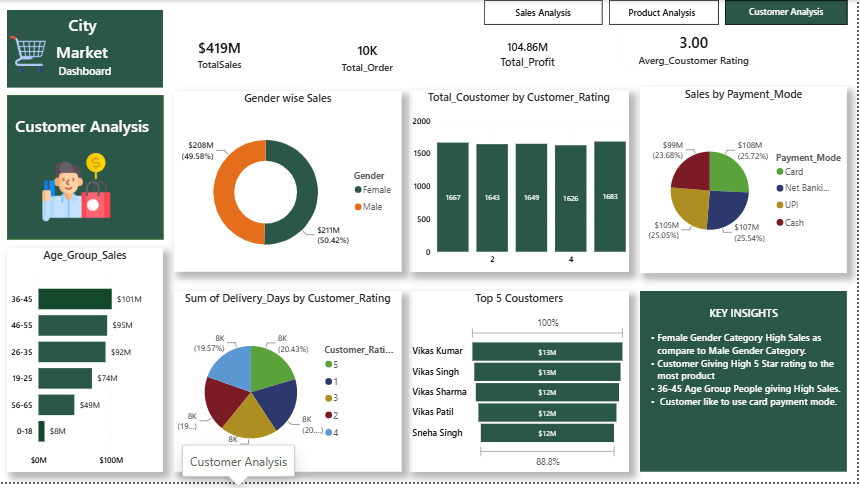

Layout of this report page (visuals, bound fields, positions):
{"tool":"powerbi","page":{"name":"Customer Analysis","canvas":[1280,720],"ordinal":2},"visuals":[{"type":"textbox","box":[9.7,14.6,232.6,115.7],"z":0},{"type":"image","box":[9.7,53.6,62.1,54.8],"z":1},{"type":"shape","box":[9.7,141.3,233.8,216],"z":3},{"type":"textbox","box":[18.3,165.6,214.3,54.8],"z":4},{"type":"image","box":[18.3,229,192.4,102.3],"z":5},{"type":"barChart","title":" Age_Group_Sales","fields":{"Category":["Sales_Data.Age_Group"],"Y":["TotalSales.TotalSales"]},"box":[9.7,370.2,232.6,334.9],"z":7},{"type":"clusteredColumnChart","fields":{"Category":["Sales_Data.Customer_Rating"],"Y":["TotalSales.Total_Coustomer"]},"box":[611.4,135.2,328.8,271.6],"z":8},{"type":"funnel","title":"Top 5 Coustomers","fields":{"Category":["Sales_Data.Customer_Name"],"Y":["TotalSales.TotalSales"]},"box":[611.4,434.8,328.8,270.4],"z":9},{"type":"pieChart","title":"Sales by Payment_Mode","fields":{"Category":["Sales_Data.Payment_Mode"],"Y":["TotalSales.TotalSales"]},"box":[956,130.3,309.3,277.7],"z":10},{"type":"pieChart","fields":{"Category":["Sales_Data.Customer_Rating"],"Y":["Sum(Sales_Data.Delivery_Days)"]},"box":[259.4,434.8,339.8,270.4],"z":11},{"type":"donutChart","title":" Gender wise Sales","fields":{"Category":["Sales_Data.Gender"],"Y":["TotalSales.TotalSales"]},"box":[259.4,136.4,339.8,270.4],"z":12},{"type":"cardVisual","fields":{"Data":["TotalSales.TotalSales"]},"box":[259.4,36.5,136.4,90.1],"z":13},{"type":"cardVisual","fields":{"Data":["TotalSales.Total_Profit"]},"box":[710,36.5,157.1,90.1],"z":14},{"type":"cardVisual","fields":{"Data":["TotalSales.Total_Order"]},"box":[456.7,40.2,183.9,90.1],"z":15},{"type":"cardVisual","fields":{"Data":["TotalSales.Averg_Coustomer Rating"]},"box":[909.8,28,253.3,90.1],"z":16},{"type":"textbox","box":[956,435,309,270],"z":17},{"type":"actionButton","box":[723.4,0,176.6,36.5],"z":18},{"type":"actionButton","box":[909.8,0,164.4,36.5],"z":19},{"type":"actionButton","box":[1082.7,0,182.7,36.5],"z":20}]}

Visuals, with their boxes in screenshot pixels (x1, y1, x2, y2), scaled from the page's 1280x720 canvas onto the 860x488 screenshot:
textbox: bbox(7, 10, 163, 88)
image: bbox(7, 36, 48, 73)
shape: bbox(7, 96, 164, 242)
textbox: bbox(12, 112, 156, 149)
image: bbox(12, 155, 142, 225)
" Age_Group_Sales" barChart: bbox(7, 251, 163, 478)
clusteredColumnChart - Sales_Data.Customer_Rating x TotalSales.Total_Coustomer: bbox(411, 92, 632, 276)
"Top 5 Coustomers" funnel: bbox(411, 295, 632, 478)
"Sales by Payment_Mode" pieChart: bbox(642, 88, 850, 277)
pieChart - Sales_Data.Customer_Rating x Sum(Sales_Data.Delivery_Days): bbox(174, 295, 403, 478)
" Gender wise Sales" donutChart: bbox(174, 92, 403, 276)
cardVisual - TotalSales.TotalSales: bbox(174, 25, 266, 86)
cardVisual - TotalSales.Total_Profit: bbox(477, 25, 583, 86)
cardVisual - TotalSales.Total_Order: bbox(307, 27, 430, 88)
cardVisual - TotalSales.Averg_Coustomer Rating: bbox(611, 19, 781, 80)
textbox: bbox(642, 295, 850, 478)
actionButton: bbox(486, 0, 605, 25)
actionButton: bbox(611, 0, 722, 25)
actionButton: bbox(727, 0, 850, 25)
